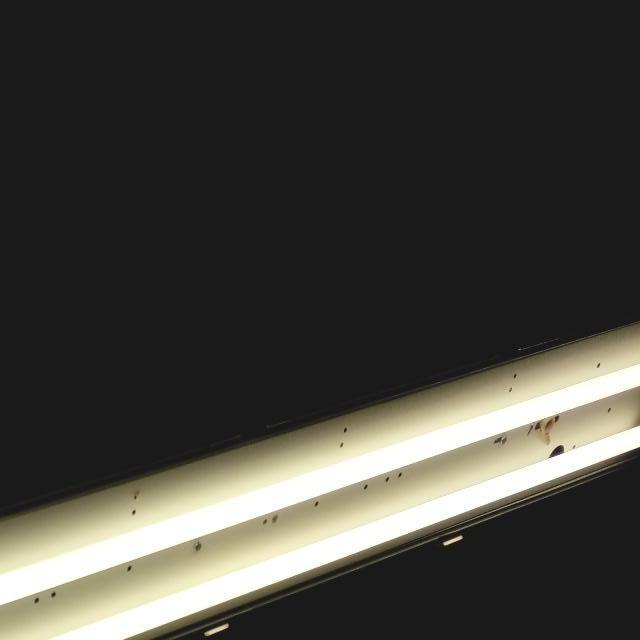fluorescent tube: (0, 295, 640, 640), (0, 394, 640, 640)
